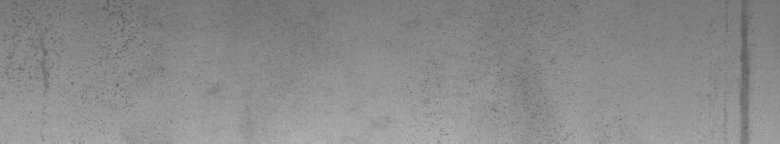ib: (19, 4, 146, 96)
